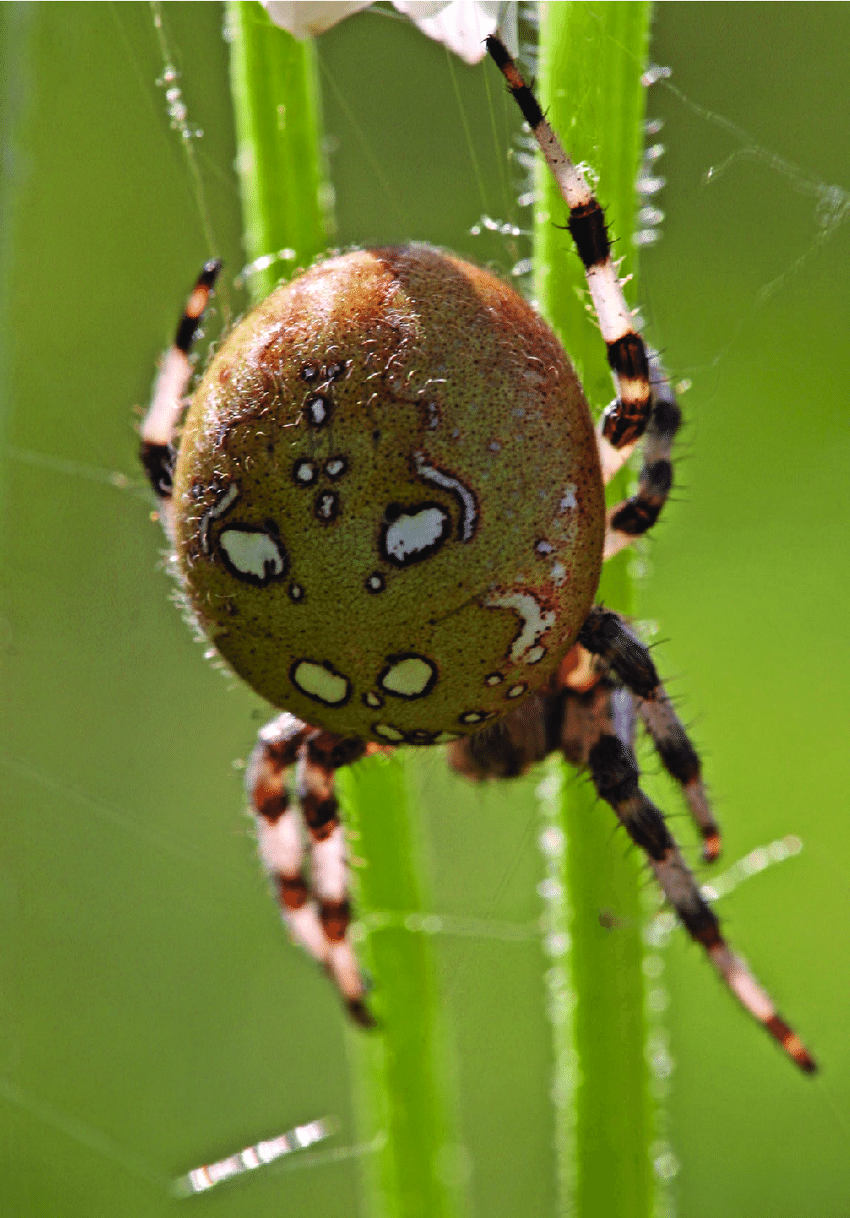spider: (114, 7, 803, 1147)
